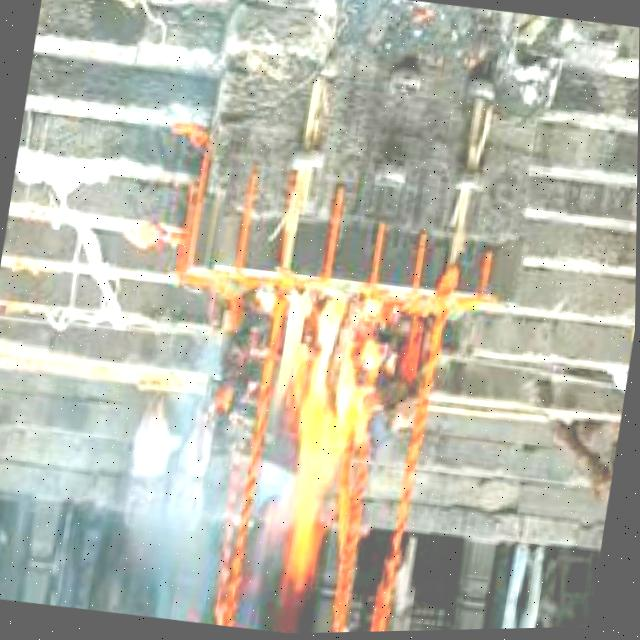Fire: (235, 293, 395, 597)
